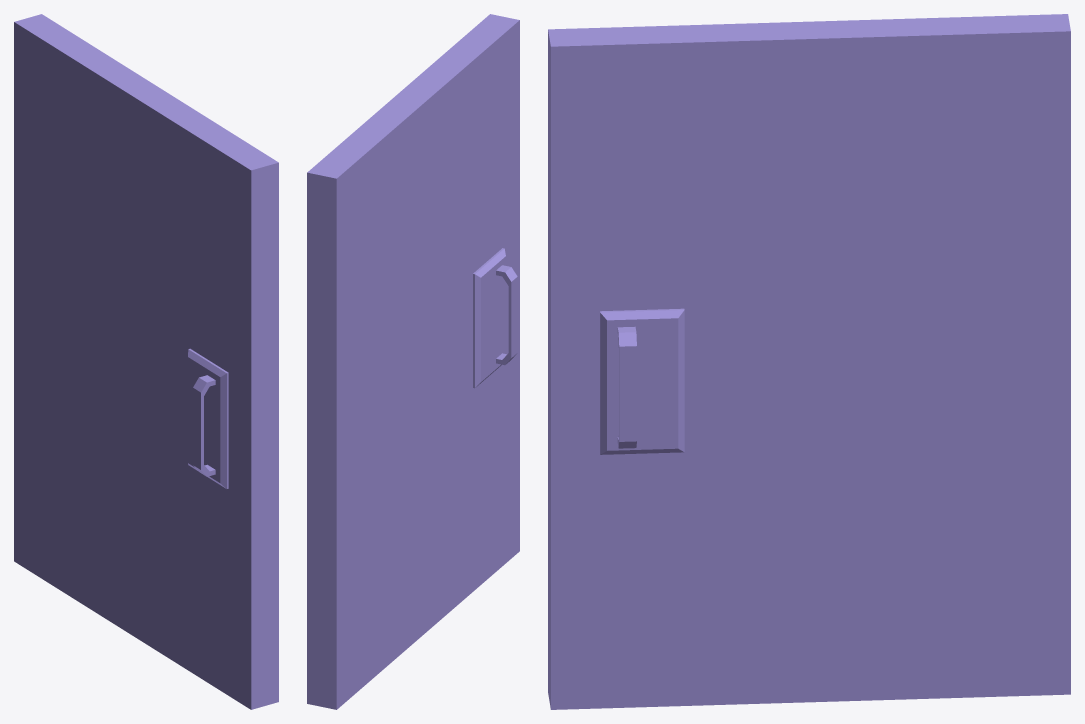
File: mesh_CellCorner_room_door.fbx
3 views of the same model, side by side, from view 1: azimuth 30°, elevation 25°; view 2: azimuth 150°, elevation 25°; view 3: azimuth 270°, elevation 25° (orthographic). The views are drawn at different scales.
Parts seen in each view (by area): view 1: CellCorner_room_door; view 2: CellCorner_room_door; view 3: CellCorner_room_door.
Part boxes in pixels (x1=…): CellCorner_room_door: x1=14, y1=14, x2=278, y2=709; CellCorner_room_door: x1=307, y1=14, x2=519, y2=709; CellCorner_room_door: x1=548, y1=14, x2=1070, y2=709.
Size of the model in its own units: 31.95 by 229 by 164.
